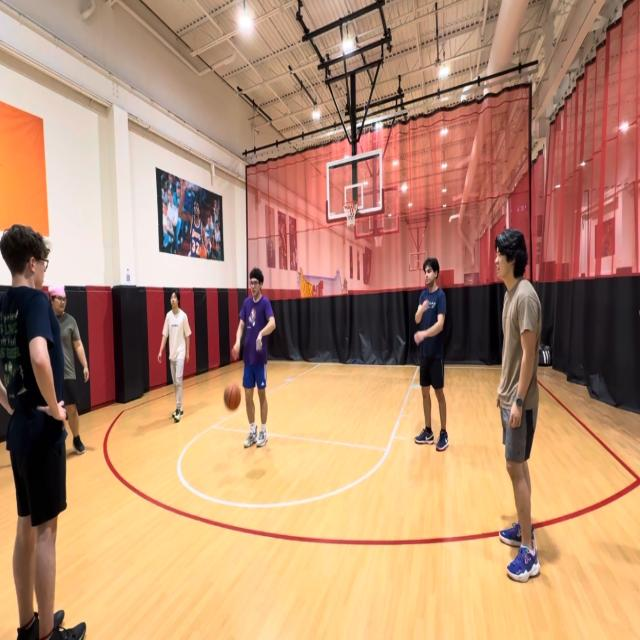Basketball: (224, 384, 241, 411)
Basketball Rim: (342, 201, 358, 227)
